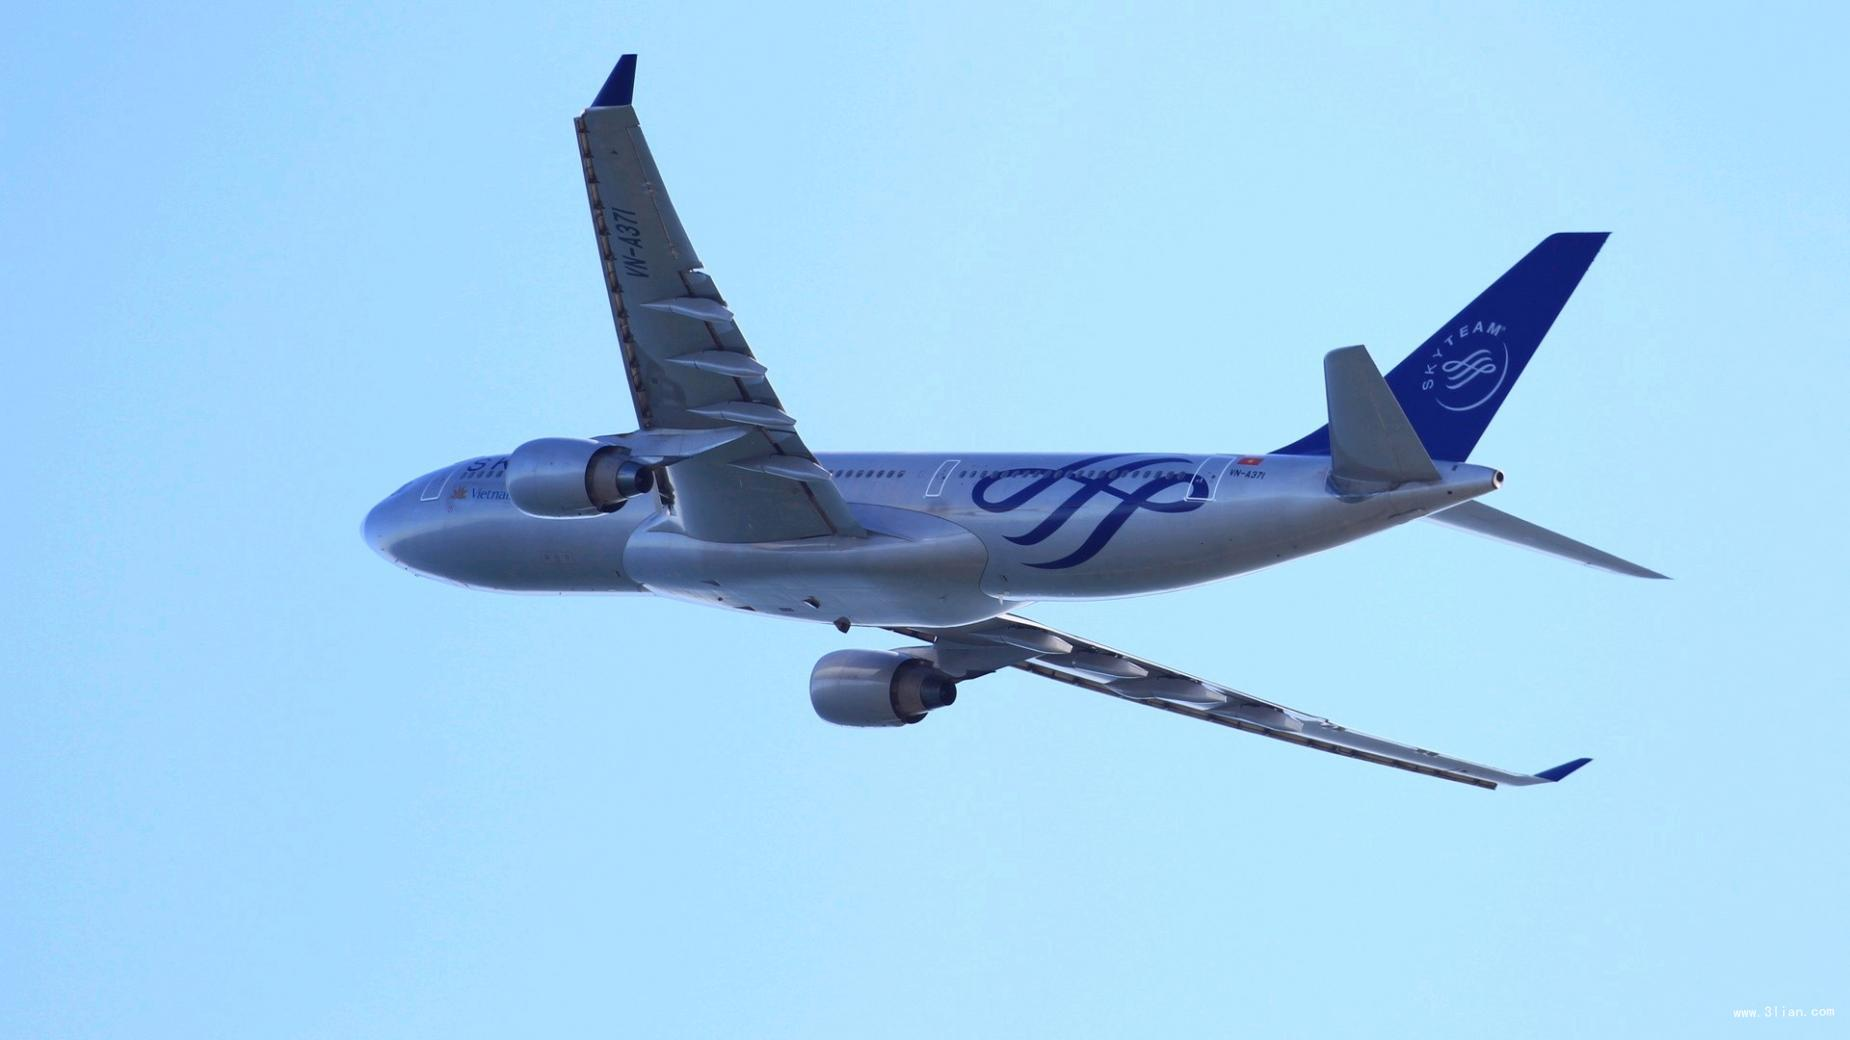airplane: (351, 50, 1689, 797)
